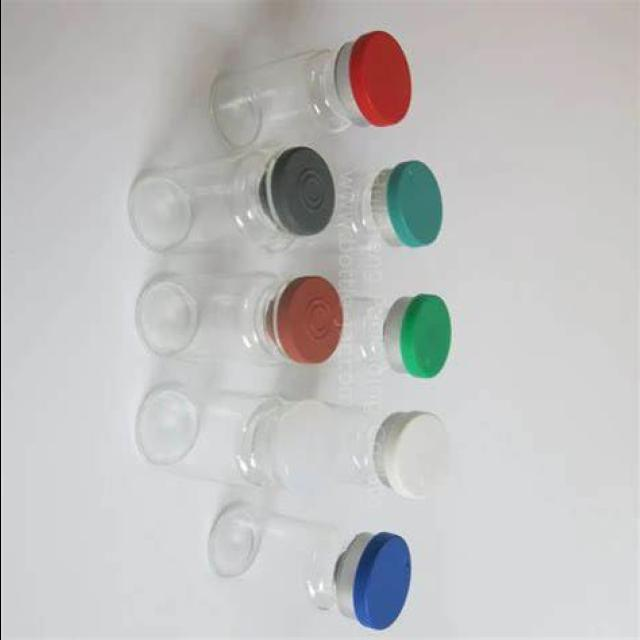vial: (269, 406, 331, 492), (352, 537, 409, 625), (356, 30, 408, 123), (285, 280, 342, 360), (276, 150, 330, 233), (394, 164, 442, 255), (392, 414, 448, 489), (404, 292, 446, 368)
